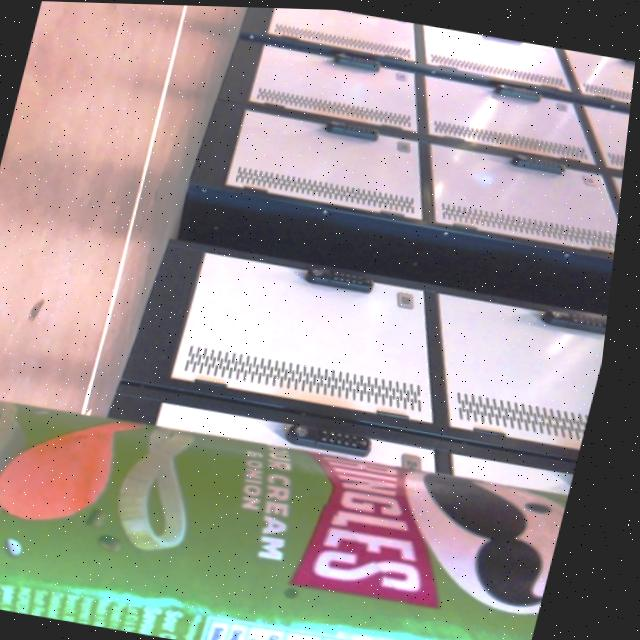greenpringles: (0, 353, 594, 640)
